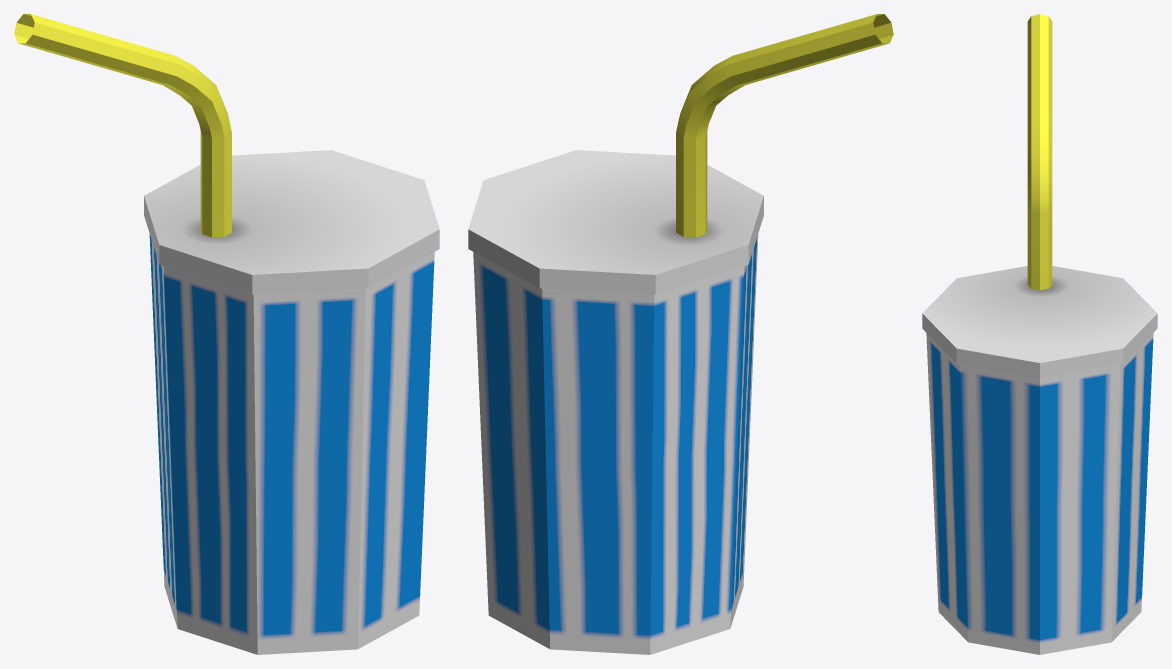
The model's file is JuiceCupFinishedProductC.fbx.
The picture shows the model from 3 angles, left to right: view 1: azimuth 30°, elevation 25°; view 2: azimuth 150°, elevation 25°; view 3: azimuth 270°, elevation 25°; orthographic projection. The views are drawn at different scales.
Parts seen in each view (by area): view 1: JuiceCupFinishedProductC; view 2: JuiceCupFinishedProductC; view 3: JuiceCupFinishedProductC.
Part boxes in pixels (left/top/right/bottom): JuiceCupFinishedProductC: left=14, top=14, right=439, bottom=654; JuiceCupFinishedProductC: left=468, top=14, right=893, bottom=654; JuiceCupFinishedProductC: left=922, top=14, right=1157, bottom=654.
Size of the model in its own units: 161 by 247 by 105.
